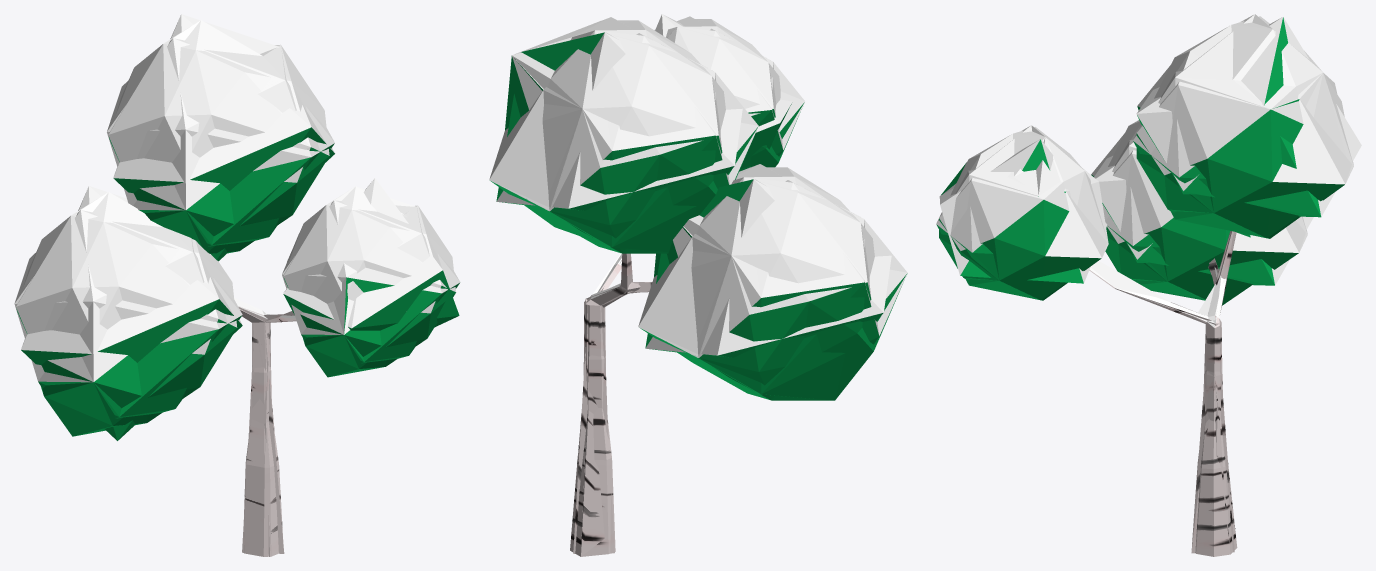
File: V1_Birch_4_Snowy.fbx
3 views of the same model, side by side, from view 1: azimuth 30°, elevation 25°; view 2: azimuth 150°, elevation 25°; view 3: azimuth 270°, elevation 25° (orthographic). The views are drawn at different scales.
Parts seen in each view (by area): view 1: V1 Birch 4_LOD0_Snowy, V1 Birch 4_LOD2_Snowy, V1 Birch 4_LOD3_Snowy, V1 Birch 4_LOD1_Snowy; view 2: V1 Birch 4_LOD0_Snowy, V1 Birch 4_LOD2_Snowy, V1 Birch 4_LOD3_Snowy, V1 Birch 4_LOD1_Snowy; view 3: V1 Birch 4_LOD0_Snowy, V1 Birch 4_LOD2_Snowy, V1 Birch 4_LOD3_Snowy, V1 Birch 4_LOD1_Snowy.
Part boxes in pixels (x1,y1,x2,y2): V1 Birch 4_LOD0_Snowy: (16, 20, 456, 556); V1 Birch 4_LOD2_Snowy: (14, 20, 460, 556); V1 Birch 4_LOD3_Snowy: (21, 14, 459, 553); V1 Birch 4_LOD1_Snowy: (239, 302, 296, 555); V1 Birch 4_LOD0_Snowy: (492, 19, 907, 556); V1 Birch 4_LOD2_Snowy: (489, 16, 907, 556); V1 Birch 4_LOD3_Snowy: (496, 14, 891, 553); V1 Birch 4_LOD1_Snowy: (578, 253, 638, 555); V1 Birch 4_LOD0_Snowy: (939, 16, 1353, 556); V1 Birch 4_LOD2_Snowy: (936, 14, 1353, 552); V1 Birch 4_LOD3_Snowy: (939, 17, 1361, 553); V1 Birch 4_LOD1_Snowy: (1077, 171, 1236, 556).
Size of the model in its own units: 439 by 651 by 493.
